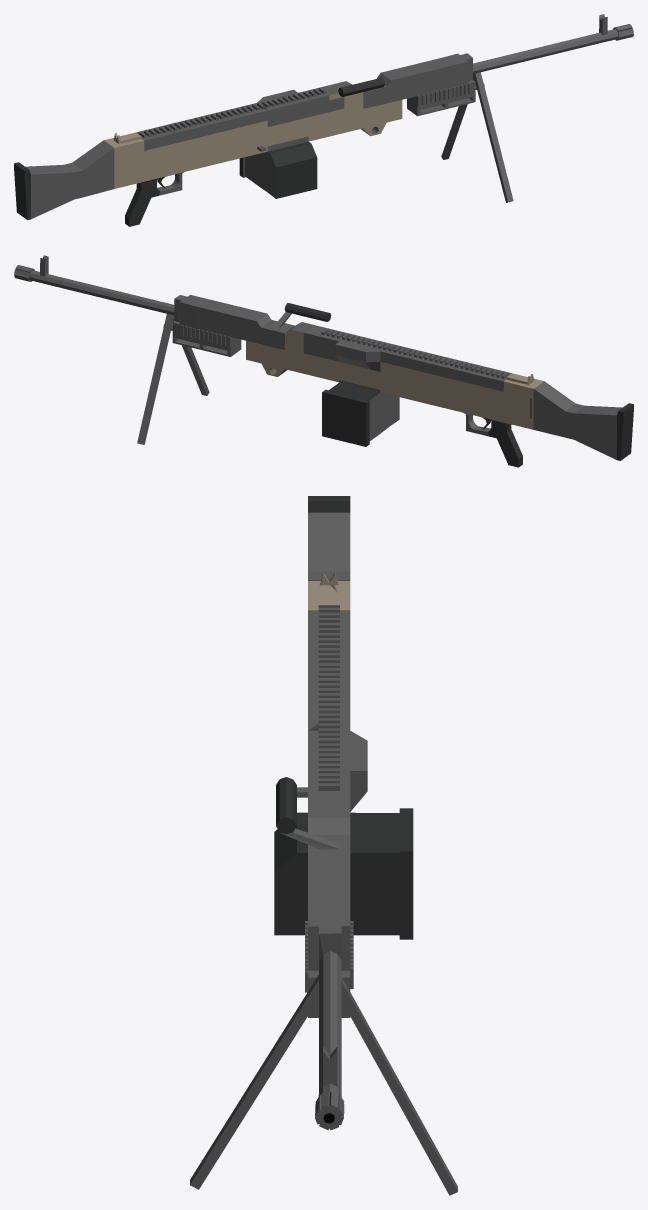
File: machinegun.fbx
3 renders of one model, top to bottom at view 1: azimuth 30°, elevation 25°; view 2: azimuth 150°, elevation 25°; view 3: azimuth 270°, elevation 25°, orthographic. The views are drawn at different scales.
Visible parts, largest first — view 1: Cube; view 2: Cube; view 3: Cube.
Part boxes in pixels (x1,y1,x2,y2): Cube: (14, 14, 633, 226); Cube: (14, 255, 633, 467); Cube: (190, 496, 457, 1195).
Size of the model in its own units: 424 by 90.88 by 80.61.
1 material, 1 textured.
